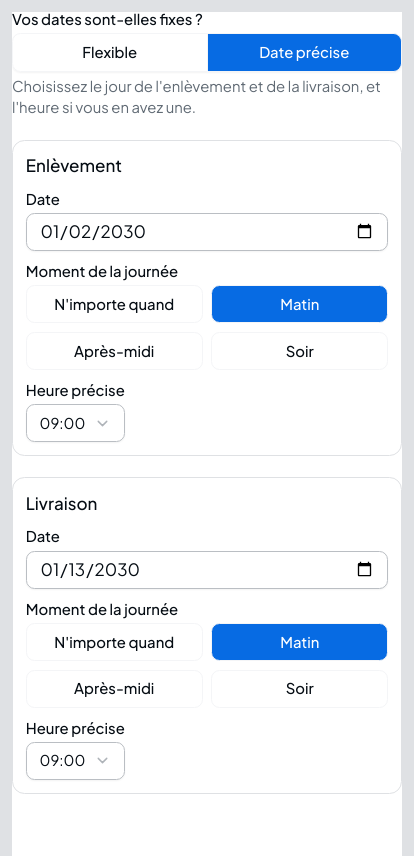
Test: TimingField — « N'importe quand » on an exact day › takes the hour away while it is chosen, at that end only
Check: the number of dropdowns named "Heure précise" is 2, box [26,404,125,442]; [26,742,125,780]
Click the 1st radio button labelled "N'importe quand".
click(114, 304)  # box [26,285,203,323]
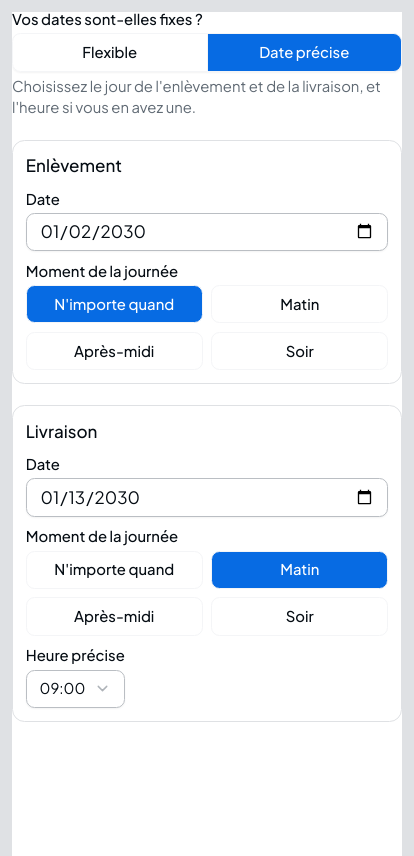
Check: the number of dropdowns named "Heure précise" is 1, box [26,670,125,708]
Check: the 1st radio button labelled "N'importe quand" is checked, box [26,285,203,323]
